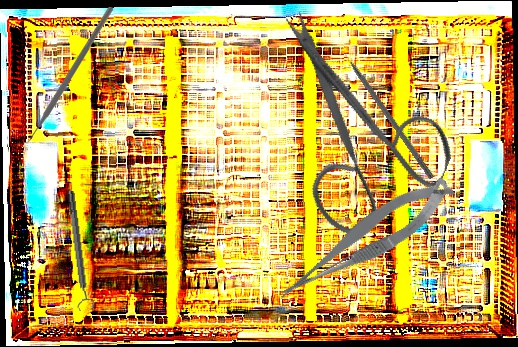Chopper: (14, 7, 113, 145)
Fixation Ring: (62, 189, 96, 312)
Hook Surgical: (337, 43, 436, 180)
Iris Scissors: (219, 5, 482, 260)
Micro Scissor: (264, 171, 464, 307)
